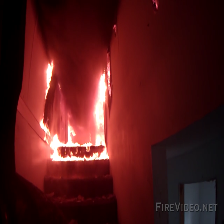fire_h: (51, 125, 92, 147), (95, 72, 107, 146), (49, 148, 110, 161)
fire_l: (45, 62, 54, 100), (39, 120, 51, 143), (107, 54, 111, 96), (112, 24, 117, 35), (153, 1, 159, 9)
